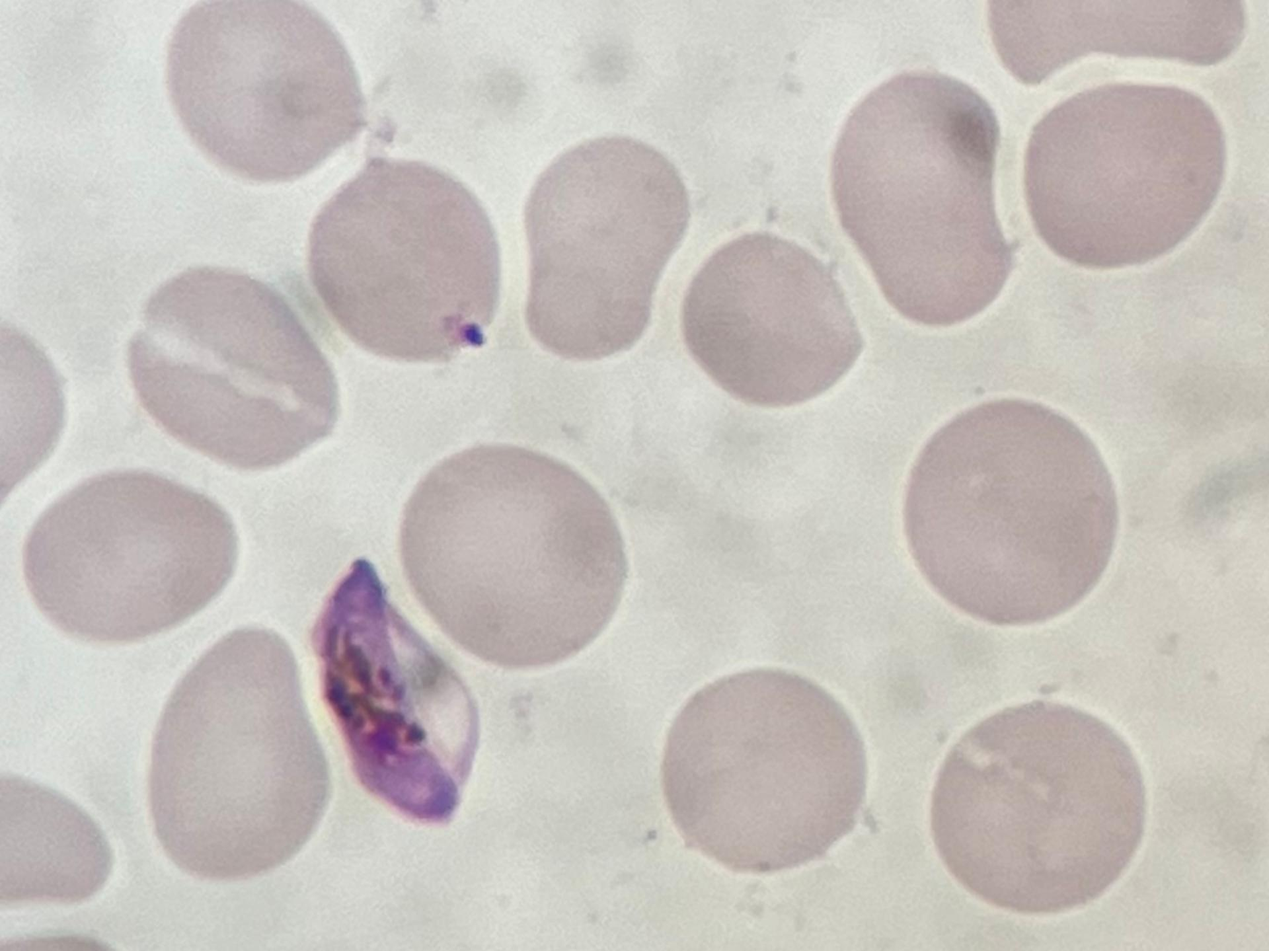Infected: (311, 554, 482, 830)
Uninfected: (398, 450, 627, 668), (904, 402, 1116, 623), (833, 73, 1014, 328), (145, 630, 329, 880), (932, 706, 1145, 912), (124, 266, 337, 468), (666, 669, 867, 870), (20, 471, 238, 644), (1026, 83, 1227, 266), (312, 171, 501, 365), (522, 139, 690, 357), (162, 0, 358, 181), (681, 238, 858, 410)
